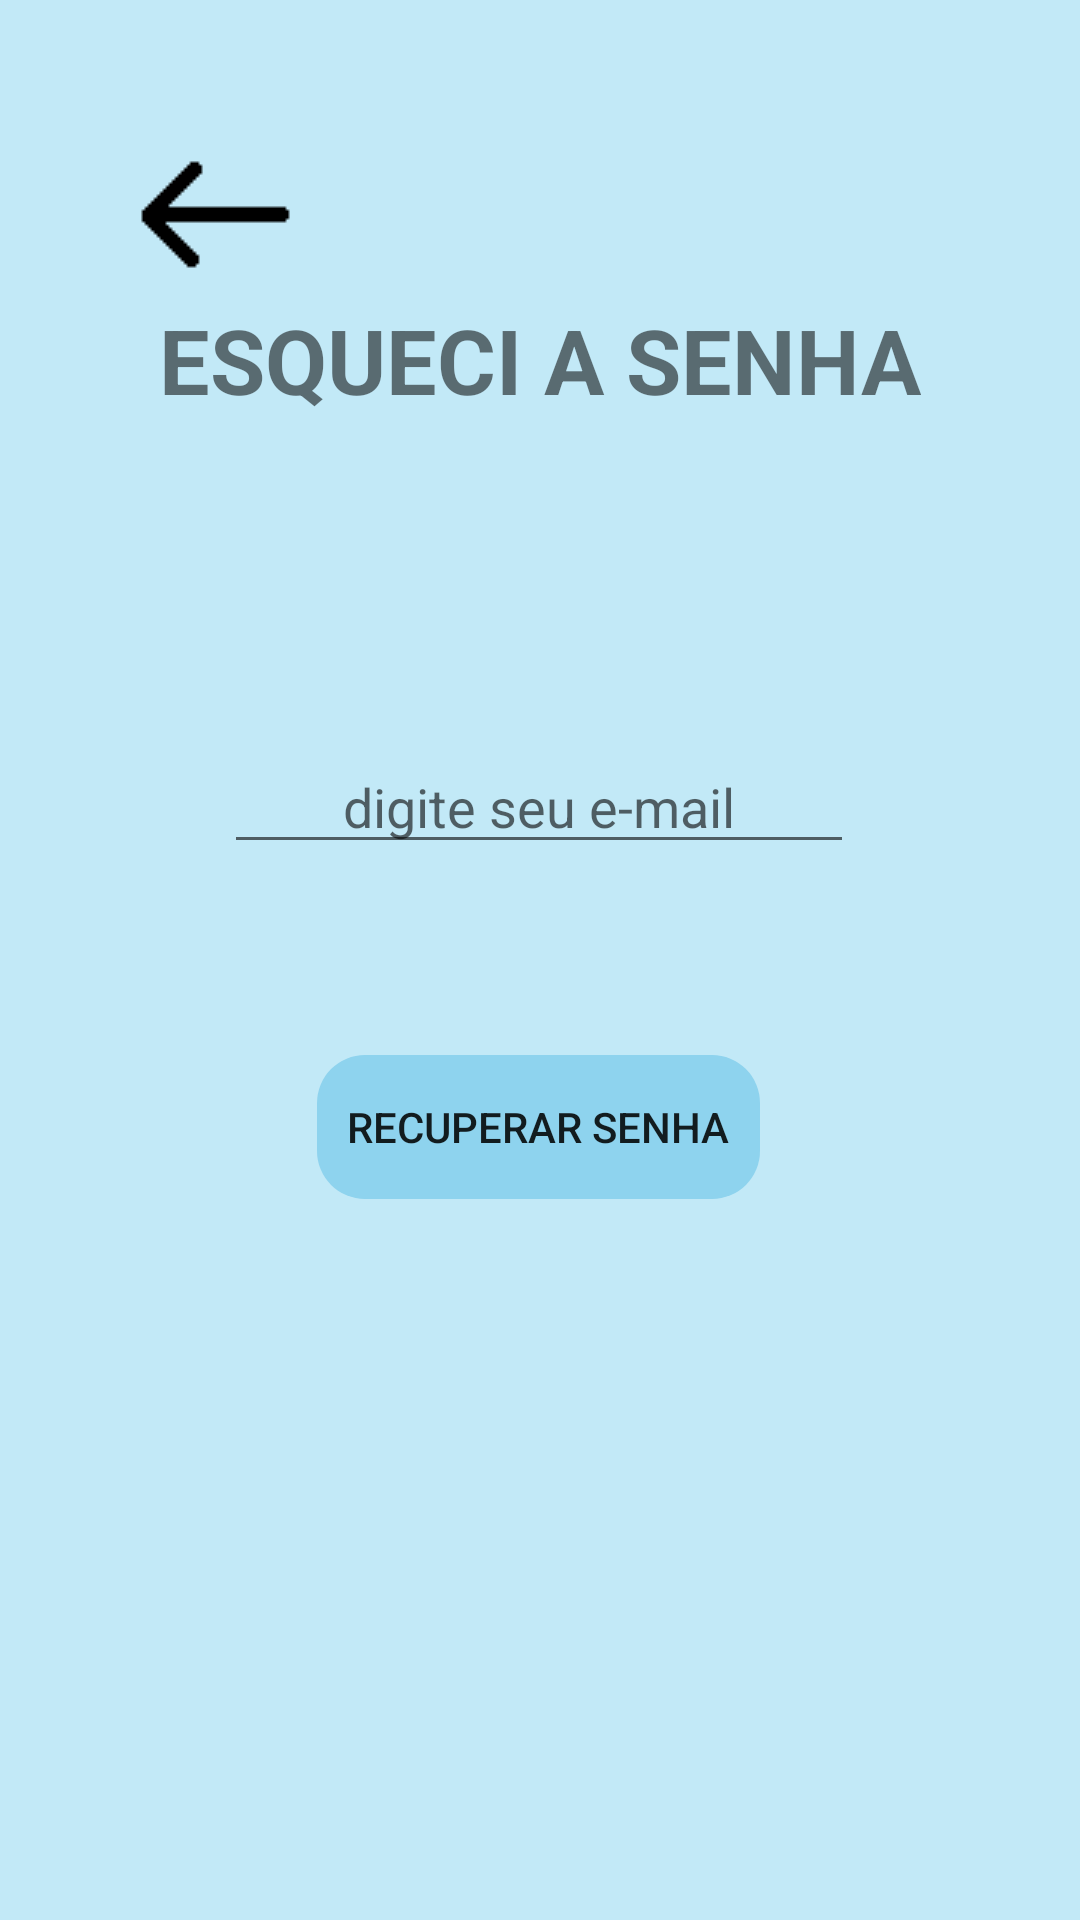

Named icons in this screenshot (1080px x 1920px) and their bounding boxes, (x1, y1, x2, y2):
seta: (141, 161, 290, 268)
